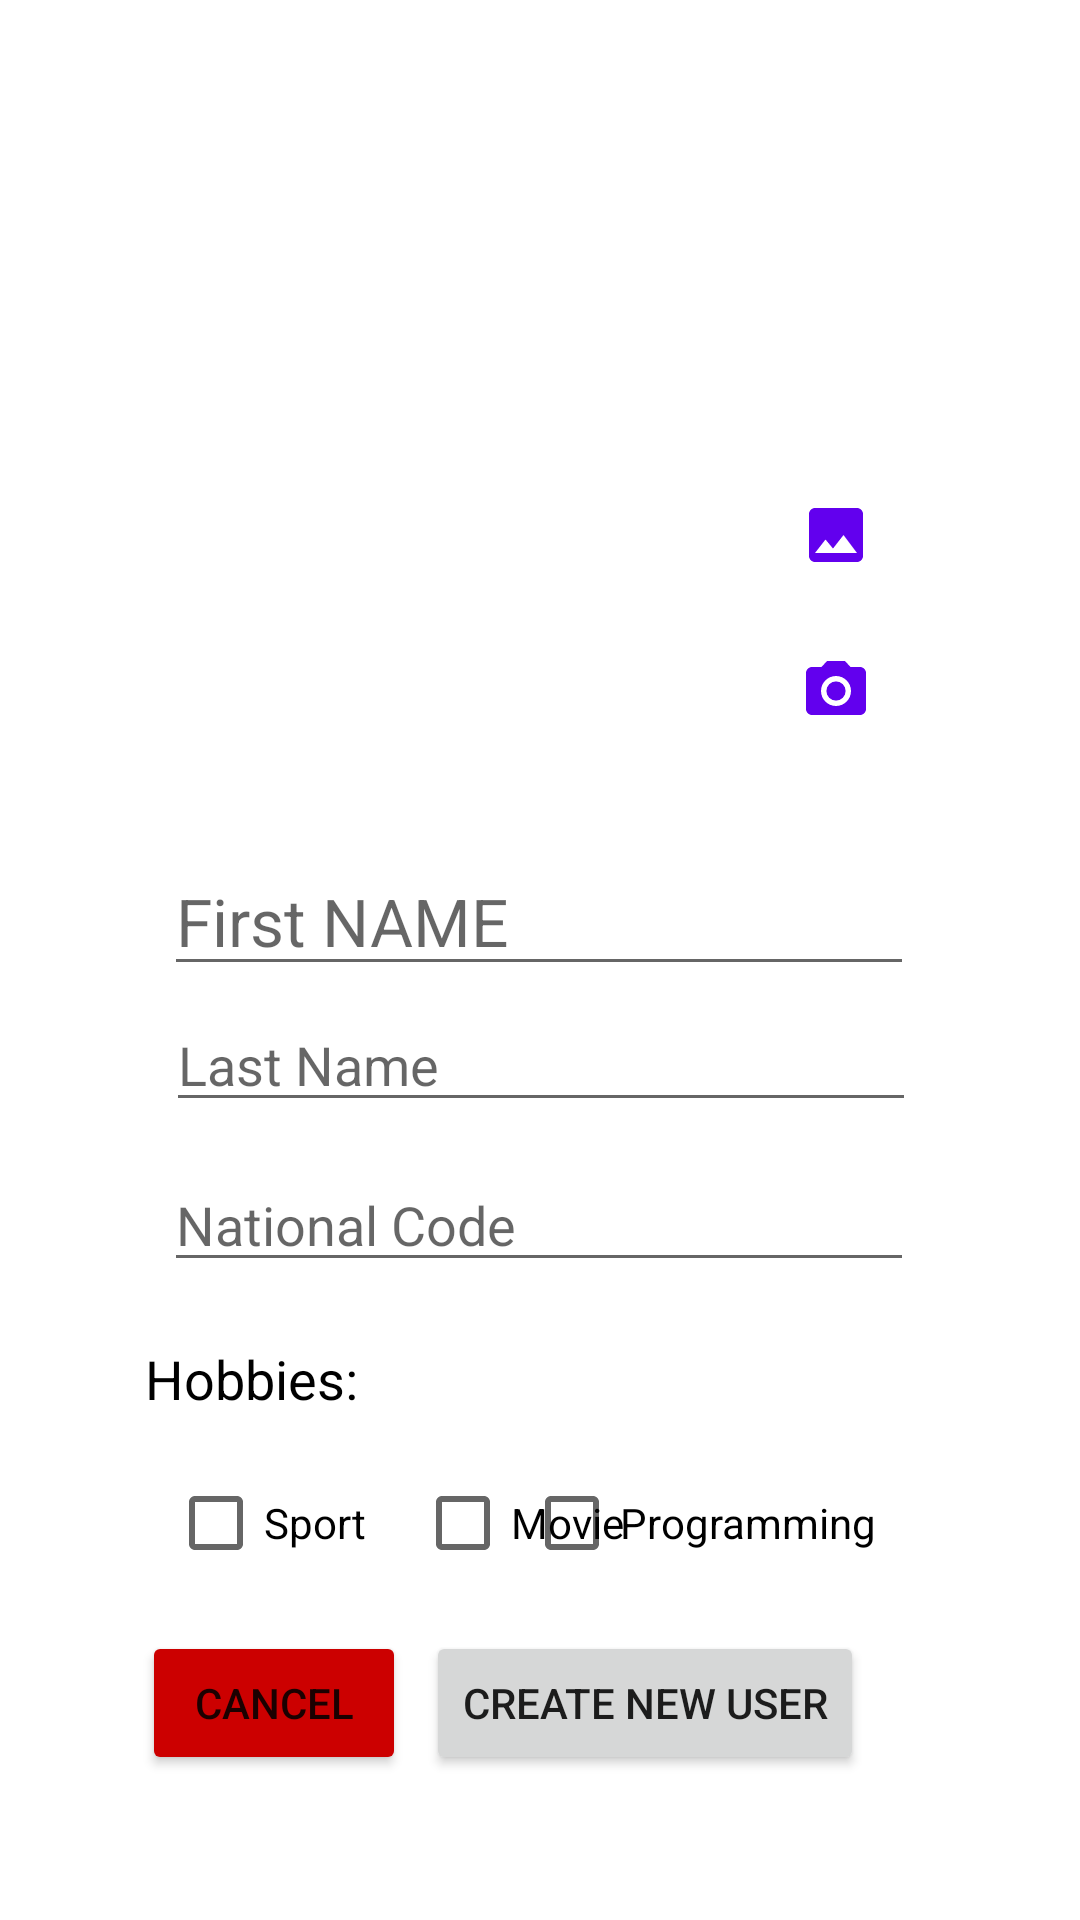

Where icons sit on this 1080px×1920px app screen, as region(x1, y1, x2, y2):
camera: region(806, 661, 866, 715)
gallery: region(809, 508, 863, 562)
